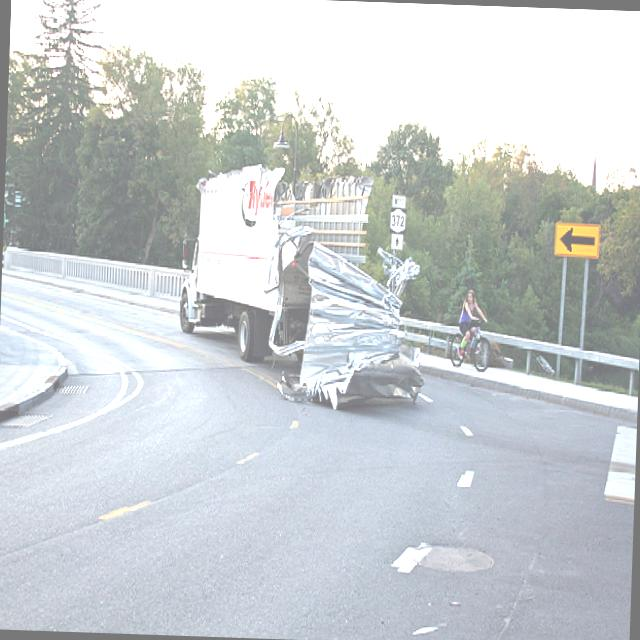Vehicle: (174, 161, 432, 411)
